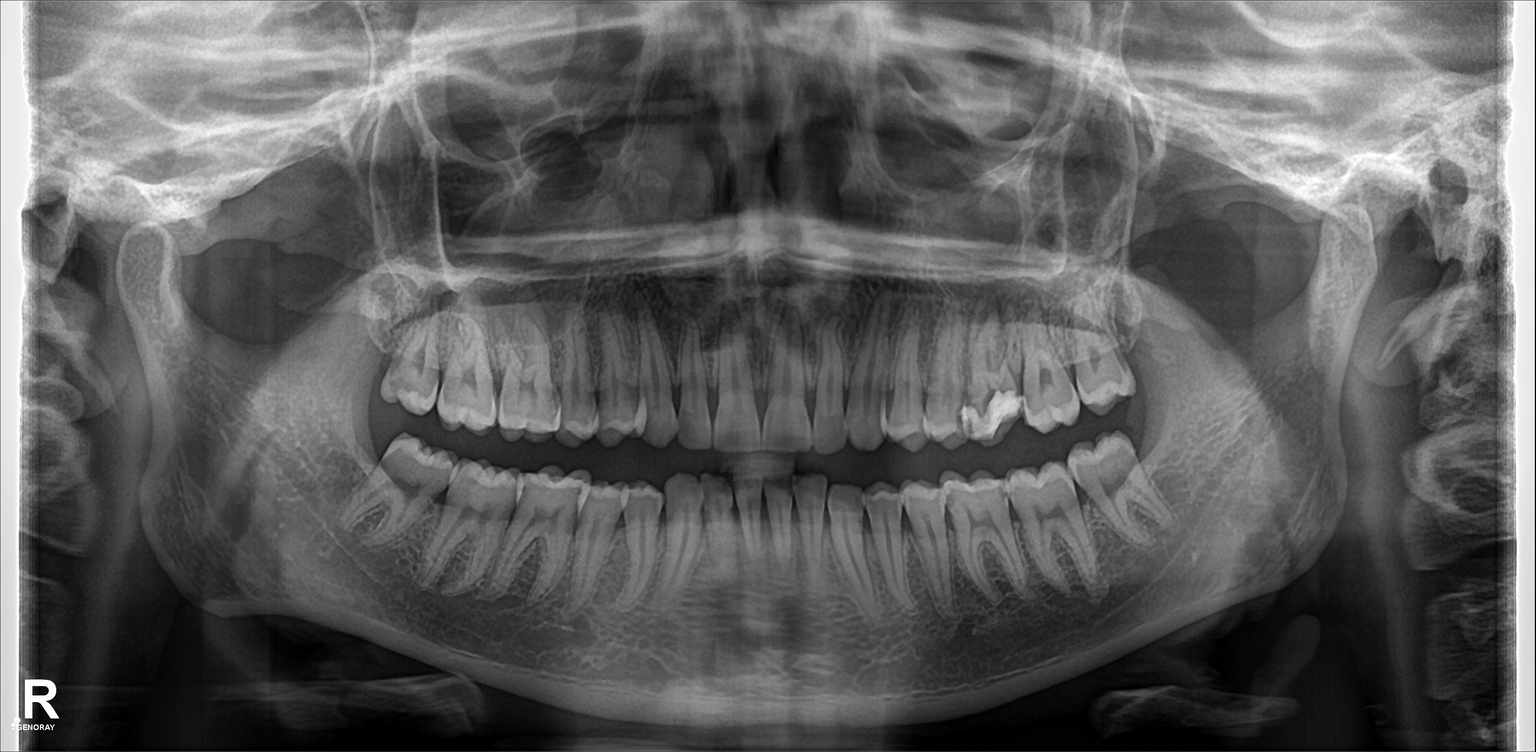Endodontically Treated Tooth: (968, 315, 1018, 439)
